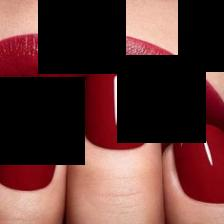red: (1, 34, 224, 128), (84, 64, 147, 150), (1, 103, 58, 191), (174, 125, 224, 204)
